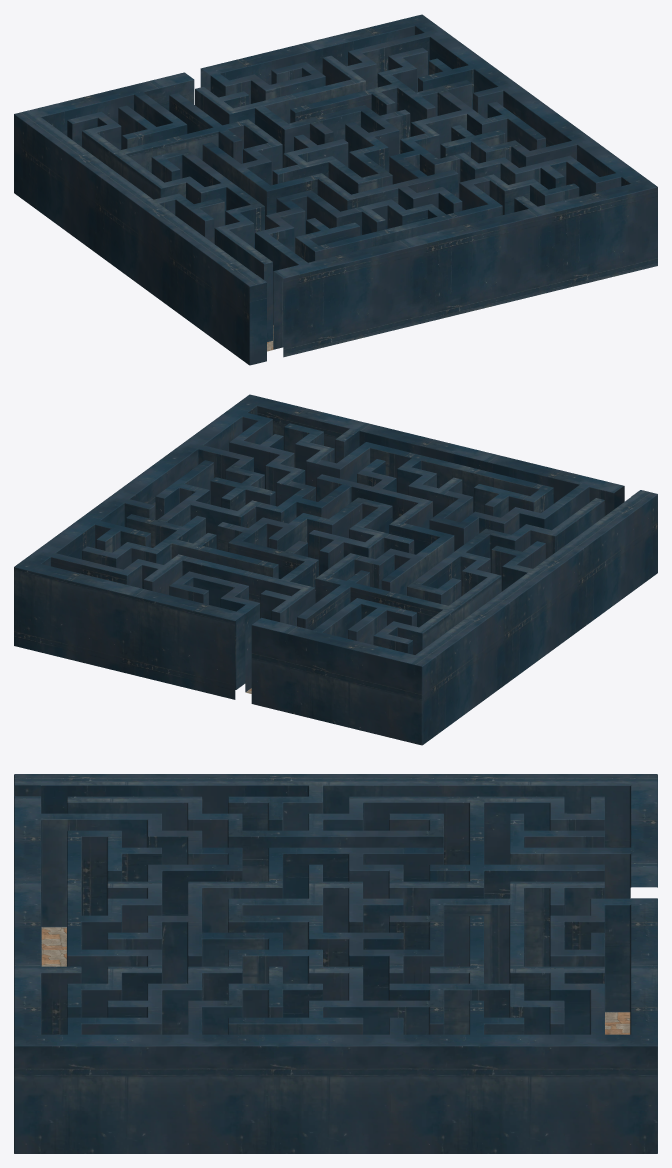
The model's file is maze1.glb.
3 renders of one model, top to bottom at view 1: azimuth 30°, elevation 25°; view 2: azimuth 150°, elevation 25°; view 3: azimuth 270°, elevation 25°, orthographic. The views are drawn at different scales.
Parts seen in each view (by area): view 1: Plane; view 2: Plane; view 3: Plane.
Part boxes in pixels (x1=…): Plane: x1=14, y1=14, x2=657, y2=365; Plane: x1=14, y1=394, x2=657, y2=745; Plane: x1=14, y1=774, x2=657, y2=1153.
Size of the model in its own units: 60 by 11.1 by 60.
Materials: 2 (2 with a texture image).
